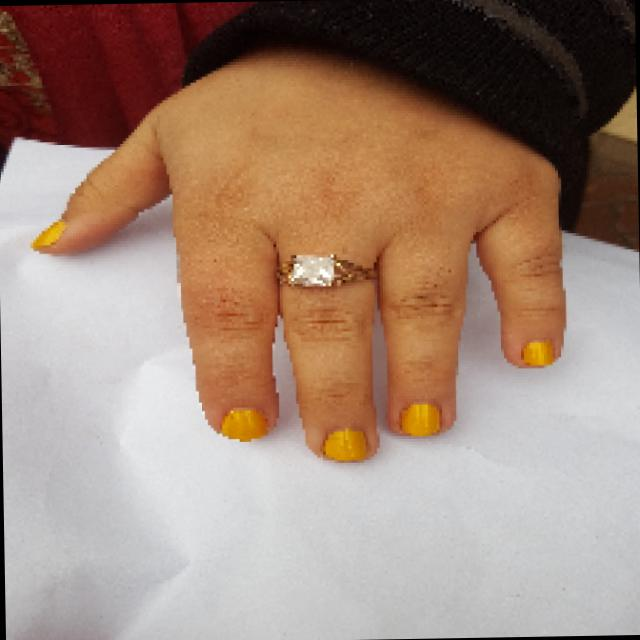Nail: (322, 427, 367, 461), (222, 409, 267, 441), (400, 403, 439, 436), (30, 220, 66, 249), (522, 341, 553, 364)
